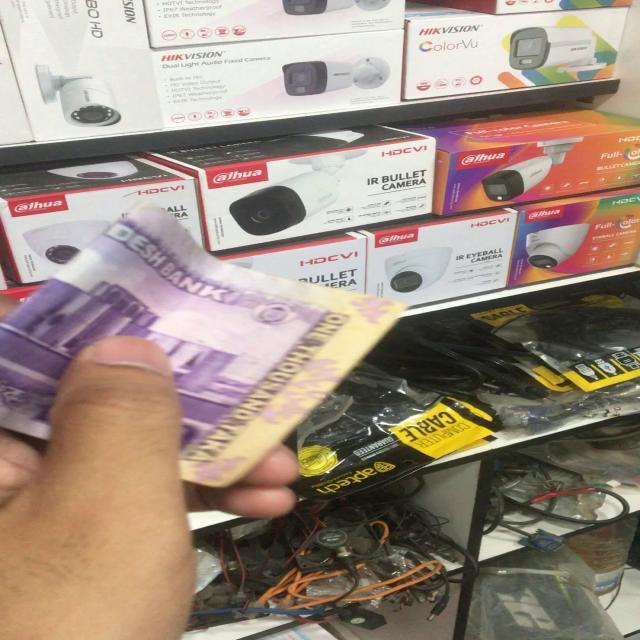Taka: (0, 199, 464, 482), (0, 164, 1, 168)
